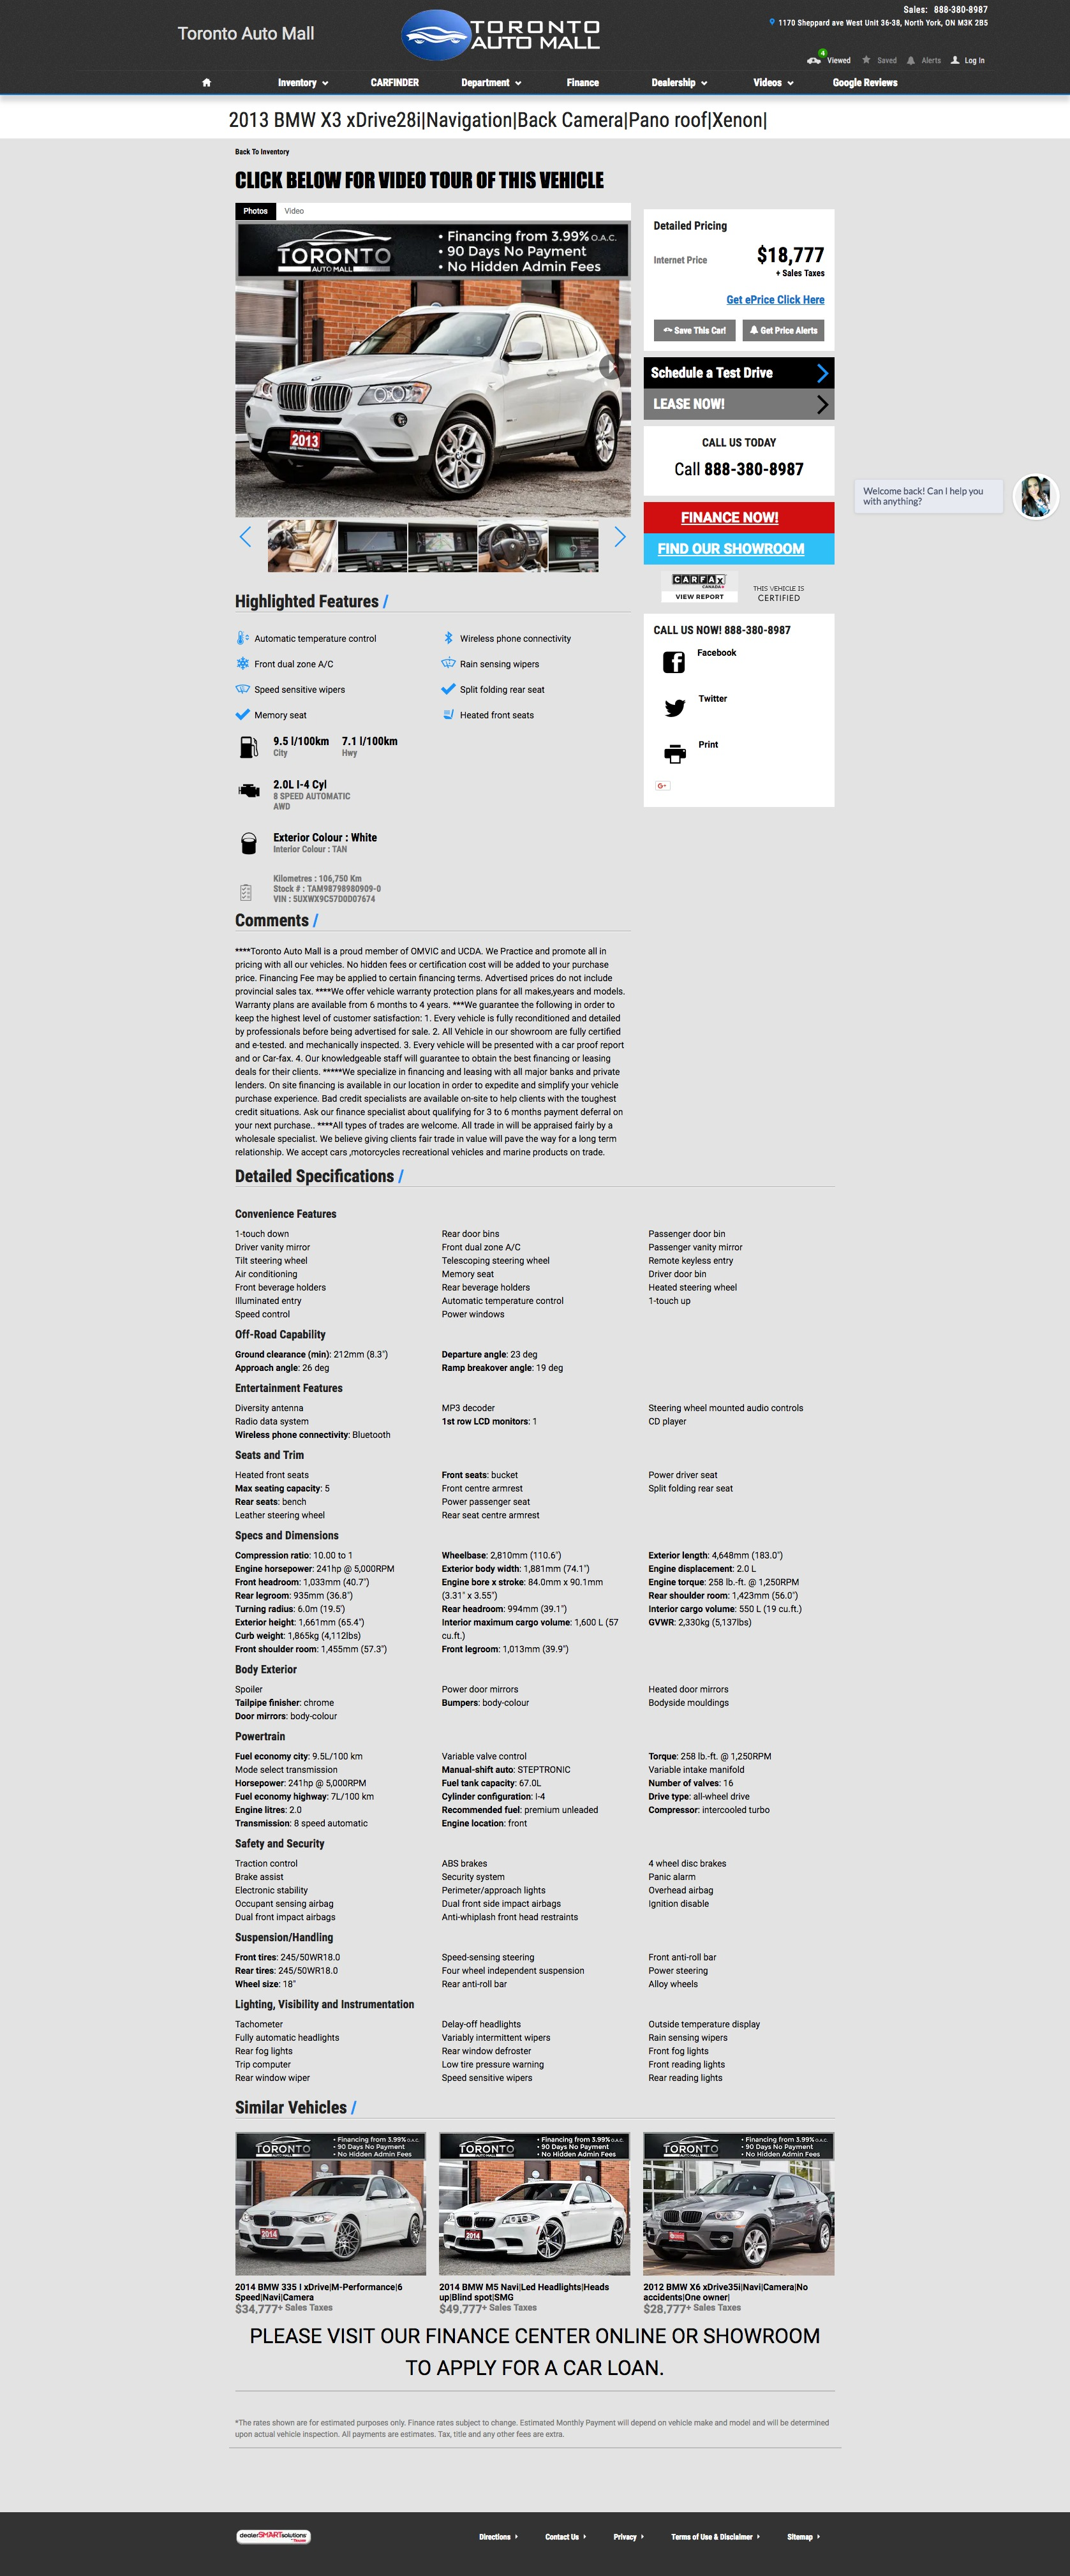car: (615, 526, 628, 549)
